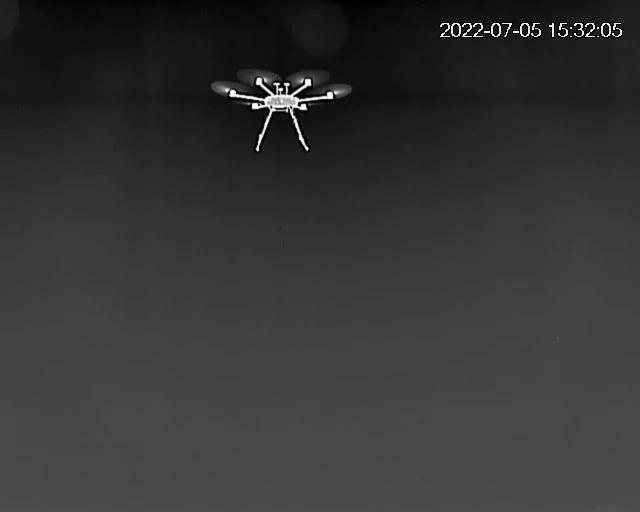DJI-Phantom: (202, 68, 357, 154)
